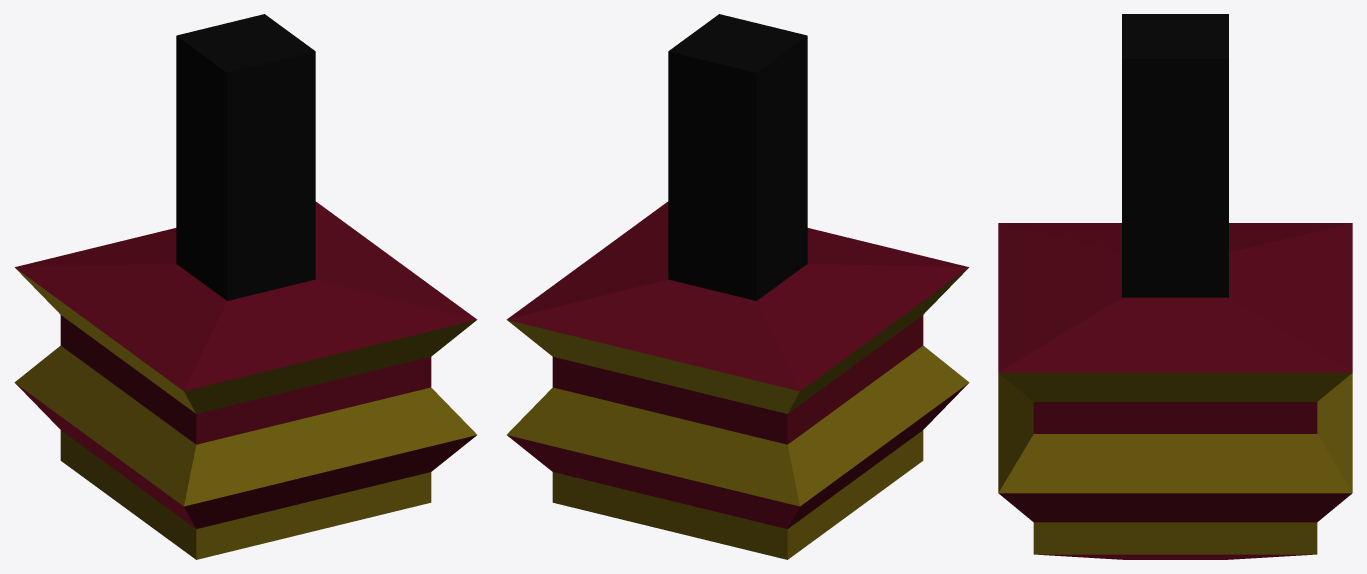
File: rocket_launcher.gltf
The picture shows the model from 3 angles, left to right: view 1: azimuth 30°, elevation 25°; view 2: azimuth 150°, elevation 25°; view 3: azimuth 270°, elevation 25°; orthographic projection. The views are drawn at different scales.
Parts seen in each view (by area): view 1: Cube; view 2: Cube; view 3: Cube.
Boxes of the visible parts, box(x1,y1,x2,y2) form: Cube: box(14, 14, 477, 559); Cube: box(506, 14, 969, 559); Cube: box(998, 14, 1352, 559).
Bounding box in the file's own units: 2 × 3.13 × 2.
